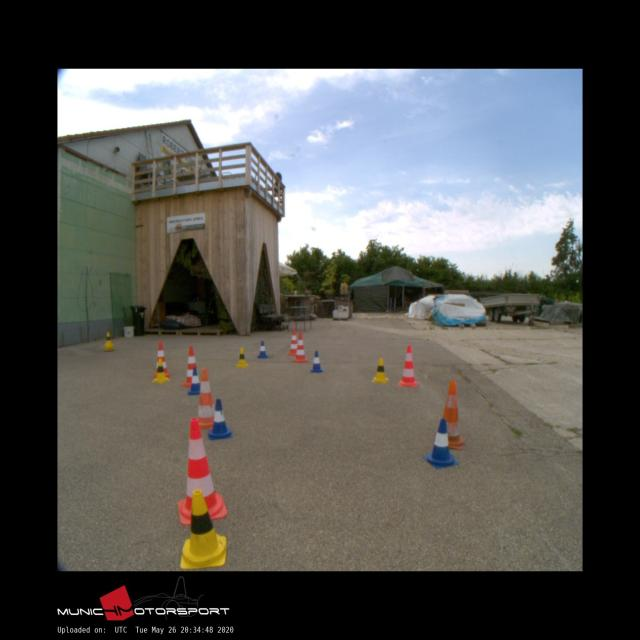blue_cone: (424, 418, 458, 467), (209, 398, 232, 438), (188, 367, 202, 395), (310, 350, 323, 371), (257, 341, 267, 357)
large_orange_cone: (178, 418, 226, 520), (436, 380, 464, 447), (196, 368, 218, 429), (397, 346, 419, 386), (183, 346, 201, 386), (153, 342, 170, 378), (293, 333, 308, 362), (287, 329, 300, 354)
yellow_cone: (180, 489, 226, 569), (371, 357, 389, 382), (153, 358, 169, 381), (235, 348, 248, 365), (104, 331, 113, 345)
